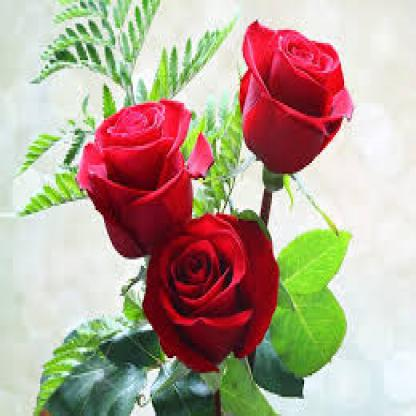Rose-Mawar: (65, 87, 278, 372), (233, 8, 358, 186)
